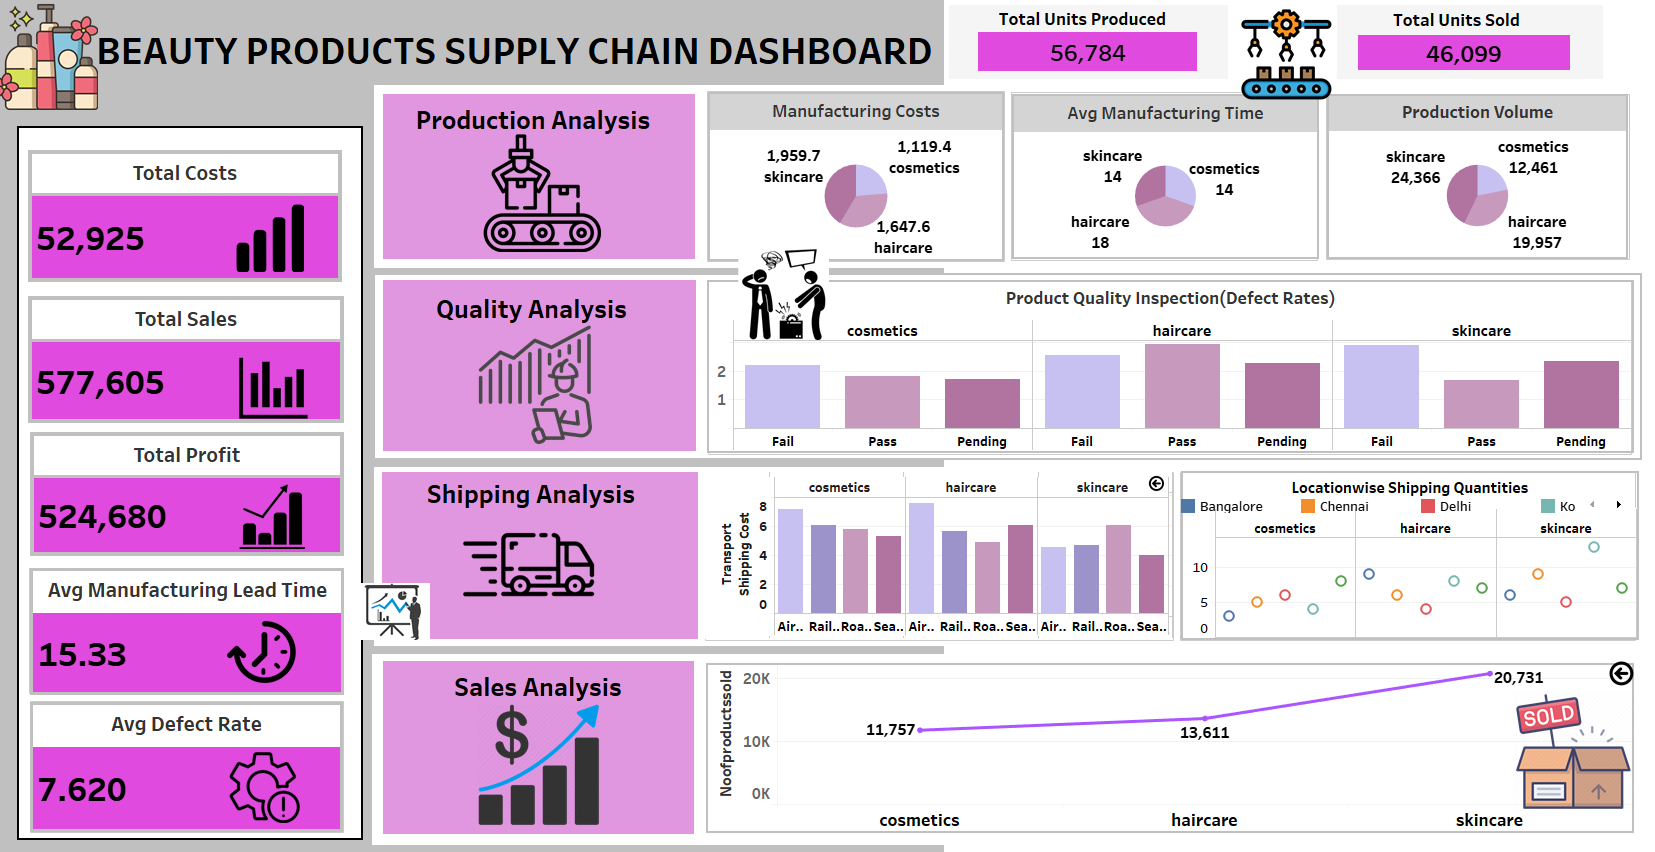

This screenshot's page, from the dashboard's own definition file:
{"tool":"tableau","page":{"name":"Dashboard 1","canvas":[1000,1000],"units":"permille","ordinal":0},"visuals":[{"type":"text","box":[4.9,4.7,587.6,105.8]},{"type":"image","param":"F:/Tableau Projects/manufacturing.png","box":[703.6,7,148.8,112.8]},{"type":"text","box":[588.7,9.4,133.3,24.7]},{"type":"text","box":[828.6,10.6,104.2,24.7]},{"type":"worksheet","title":"Total Units Manufactured","mark":"Automatic","box":[592.3,37.6,132.1,45.8]},{"type":"worksheet","title":"TotalUnitsSold","mark":"Automatic","box":[821.4,41.1,128,41.1]},{"type":"worksheet","title":"Manufacturing Costs","mark":"Pie","box":[428.8,108.1,178.8,198.6]},{"type":"worksheet","title":"Avg Manufacturing Time","mark":"Pie","box":[612.5,110.5,185.1,193.9]},{"type":"worksheet","title":"Production Volume","mark":"Pie","box":[802.9,110.5,181.9,193.9]},{"type":"text","box":[250,119.9,147.2,40]},{"type":"text","box":[241.5,126.9,161.2,40]},{"type":"image","param":"F:/Tableau Projects/manufacturingicon.png","box":[250,157.5,158.8,138.7]},{"type":"worksheet","title":"Total Costs","mark":"Automatic","box":[18.7,176.3,189.5,155.1]},{"type":"image","param":"F:/Tableau Projects/barchart1.png","box":[122.5,239.7,85.1,79.9]},{"type":"image","param":"F:/Tableau Projects/defects-1437575-1216266.png","box":[441.7,292.6,65.5,106.9]},{"type":"worksheet","title":"Product Quality Inspection(Defect Rates)","mark":"Automatic","cols":["Producttype (Sheet15)"],"box":[428.7,329,559.7,203.3]},{"type":"text","box":[251.2,341.9,142.9,40]},{"type":"worksheet","title":"Total Sales","mark":"Automatic","box":[18.7,347.8,190.7,149.2]},{"type":"image","param":"F:/Tableau Projects/qualityinspec.png","box":[255.5,380.7,138.7,142.2]},{"type":"image","param":"F:/Tableau Projects/bar-chart-icon.png","box":[128.6,406.6,76.6,89.3]},{"type":"worksheet","title":"Total Profit","mark":"Automatic","box":[19.9,507.6,189.5,145.7]},{"type":"dashboard-object","box":[691.9,553.5,14.6,28.2]},{"type":"worksheet","title":"Locationwise Shipping Quantities","mark":"Shape","cols":["Producttype (Sheet13)"],"box":[714.4,553.5,276.5,198.6]},{"type":"worksheet","title":"Transport Shipping Time","mark":"Bar","cols":["Producttype (Sheet18)"],"box":[427.5,554.6,282.6,196.2]},{"type":"worksheet","title":"Transport Shipping Cost","mark":"Automatic","cols":["Producttype (Sheet18)"],"box":[428.1,555.8,282,196.2]},{"type":"text","box":[256.7,559.3,131.4,40]},{"type":"image","param":"F:/Tableau Projects/Bar-Chart-Silhouette-PNG.png","box":[131.6,568.7,69.4,76.4]},{"type":"legend","title":"Locationwise Shipping Quantities","param":"[federated.053qnve1g3qte410nf6b01wxkpgl].[:Measure Names]","box":[712.6,582.8,275.3,20]},{"type":"image","param":"F:/Tableau Projects/shippingicon.png","box":[264,584,114.4,158.6]},{"type":"worksheet","title":"Avg Manufacturing Lead Time","mark":"Automatic","box":[19.9,667.5,189.5,149.2]},{"type":"image","param":"F:/Tableau Projects/analysis.png","box":[216.5,685.1,44.9,67]},{"type":"image","param":"F:/Tableau Projects/time.png","box":[123.7,721.5,71.8,89.3]},{"type":"dashboard-object","box":[967.8,768.5,24.9,44.6]},{"type":"worksheet","title":"Products Sold","mark":"Line","rows":["Noofproductssold"],"cols":["Producttype (Sheet16)"],"box":[425.2,774.4,565.1,209.2]},{"type":"worksheet","title":"Revenue generated","mark":"Line","rows":["Revenuegenerated"],"cols":["Producttype (Sheet16)"],"box":[424.6,775.6,565.7,211.5]},{"type":"text","box":[273.1,786.1,106.5,40]},{"type":"image","param":"F:/Tableau Projects/sold.png","box":[907.1,812,88.1,141]},{"type":"worksheet","title":"Avg Defect Rate","mark":"Automatic","box":[20,824.9,188.6,152.8]},{"type":"image","param":"F:/Tableau Projects/sales.png","box":[271.3,826.1,111.3,144.5]},{"type":"image","param":"F:/Tableau Projects/defect.png","box":[123.1,883.7,77,83.4]}]}

Visuals, with their boxes on the dashboard's canvas, which has no fixed pixel size, in thousandths of its width and height (x1, y1, x2, y2). These are canvas units, not pixel positions in the 1655x852 screenshot, which may show the page scaled, cropped or inside an application window:
text: {"left": 5, "top": 5, "right": 592, "bottom": 110}
image: {"left": 704, "top": 7, "right": 852, "bottom": 120}
text: {"left": 589, "top": 9, "right": 722, "bottom": 34}
text: {"left": 829, "top": 11, "right": 933, "bottom": 35}
"Total Units Manufactured" worksheet: {"left": 592, "top": 38, "right": 724, "bottom": 83}
"TotalUnitsSold" worksheet: {"left": 821, "top": 41, "right": 949, "bottom": 82}
"Manufacturing Costs" worksheet (Pie marks): {"left": 429, "top": 108, "right": 608, "bottom": 307}
"Avg Manufacturing Time" worksheet (Pie marks): {"left": 612, "top": 110, "right": 798, "bottom": 304}
"Production Volume" worksheet (Pie marks): {"left": 803, "top": 110, "right": 985, "bottom": 304}
text: {"left": 250, "top": 120, "right": 397, "bottom": 160}
text: {"left": 242, "top": 127, "right": 403, "bottom": 167}
image: {"left": 250, "top": 158, "right": 409, "bottom": 296}
"Total Costs" worksheet: {"left": 19, "top": 176, "right": 208, "bottom": 331}
image: {"left": 122, "top": 240, "right": 208, "bottom": 320}
image: {"left": 442, "top": 293, "right": 507, "bottom": 400}
"Product Quality Inspection(Defect Rates)" worksheet: {"left": 429, "top": 329, "right": 988, "bottom": 532}
text: {"left": 251, "top": 342, "right": 394, "bottom": 382}
"Total Sales" worksheet: {"left": 19, "top": 348, "right": 209, "bottom": 497}
image: {"left": 256, "top": 381, "right": 394, "bottom": 523}
image: {"left": 129, "top": 407, "right": 205, "bottom": 496}
"Total Profit" worksheet: {"left": 20, "top": 508, "right": 209, "bottom": 653}
dashboard-object: {"left": 692, "top": 554, "right": 706, "bottom": 582}
"Locationwise Shipping Quantities" worksheet (Shape marks): {"left": 714, "top": 554, "right": 991, "bottom": 752}
"Transport Shipping Time" worksheet (Bar marks): {"left": 428, "top": 555, "right": 710, "bottom": 751}
"Transport Shipping Cost" worksheet: {"left": 428, "top": 556, "right": 710, "bottom": 752}
text: {"left": 257, "top": 559, "right": 388, "bottom": 599}
image: {"left": 132, "top": 569, "right": 201, "bottom": 645}
"Locationwise Shipping Quantities" legend: {"left": 713, "top": 583, "right": 988, "bottom": 603}
image: {"left": 264, "top": 584, "right": 378, "bottom": 743}
"Avg Manufacturing Lead Time" worksheet: {"left": 20, "top": 668, "right": 209, "bottom": 817}
image: {"left": 216, "top": 685, "right": 261, "bottom": 752}
image: {"left": 124, "top": 722, "right": 196, "bottom": 811}
dashboard-object: {"left": 968, "top": 768, "right": 993, "bottom": 813}
"Products Sold" worksheet (Line marks): {"left": 425, "top": 774, "right": 990, "bottom": 984}
"Revenue generated" worksheet (Line marks): {"left": 425, "top": 776, "right": 990, "bottom": 987}
text: {"left": 273, "top": 786, "right": 380, "bottom": 826}
image: {"left": 907, "top": 812, "right": 995, "bottom": 953}
"Avg Defect Rate" worksheet: {"left": 20, "top": 825, "right": 209, "bottom": 978}
image: {"left": 271, "top": 826, "right": 383, "bottom": 971}
image: {"left": 123, "top": 884, "right": 200, "bottom": 967}
